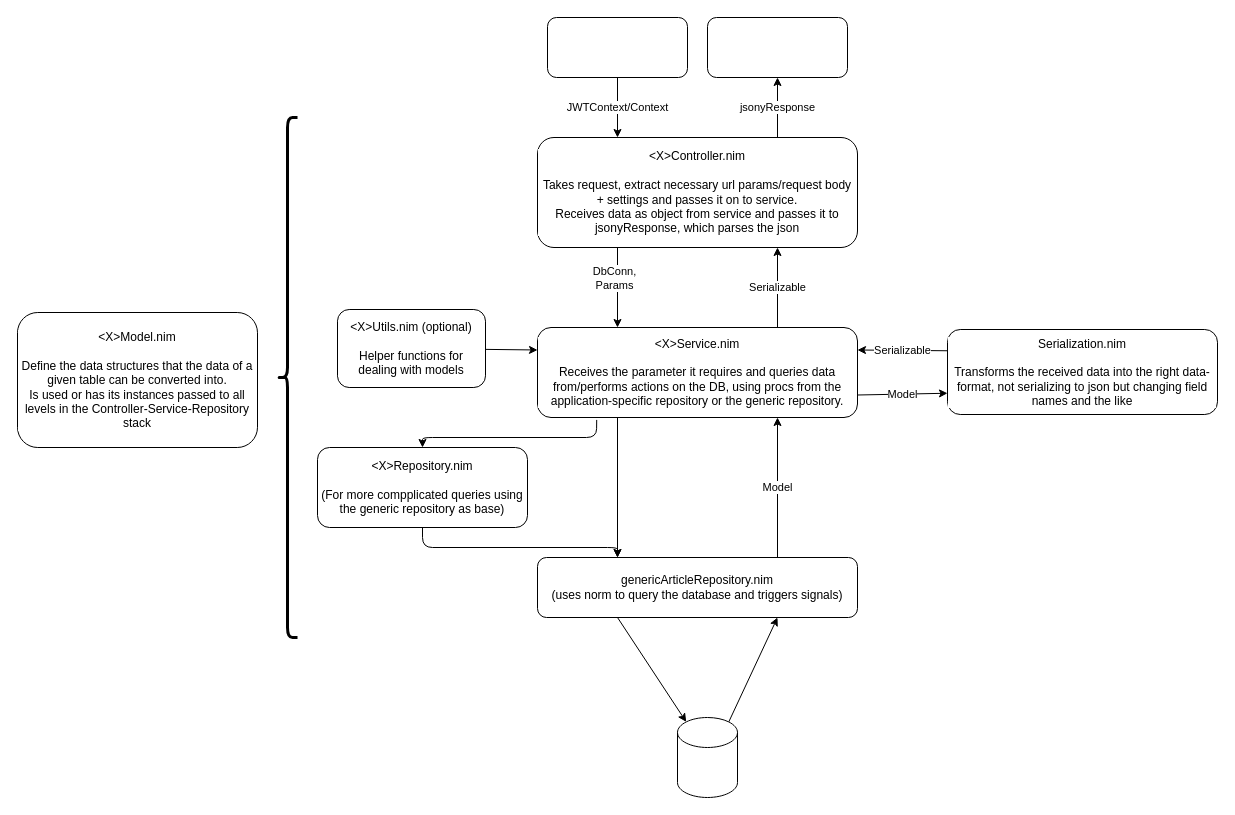
The diagram is 1235 pixels wide and 815 high, and some of its shapes have lost their labels. Each missing label, with the box of its shape:
HttpRequest: (546, 16, 688, 78)
HttpResponse JSON: (706, 16, 848, 78)
SQLite: (676, 716, 738, 798)
